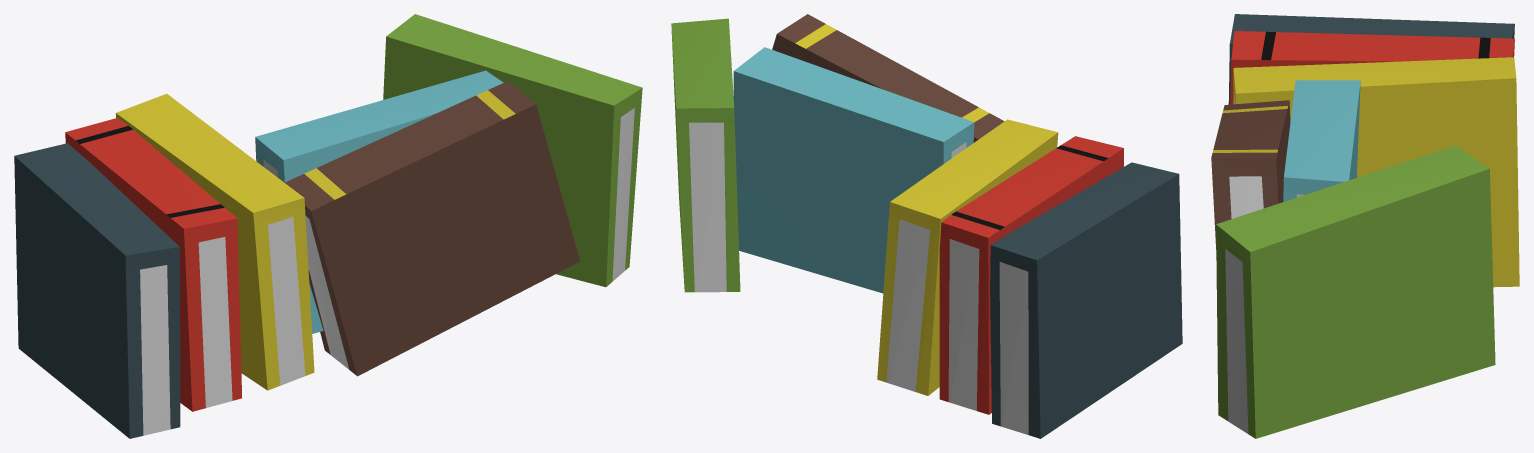
3 views of the same model, side by side, from view 1: azimuth 30°, elevation 25°; view 2: azimuth 150°, elevation 25°; view 3: azimuth 270°, elevation 25° (orthographic). The views are drawn at different scales.
Parts seen in each view (by area): view 1: node_MeshObject96883712-PolyPaper17; view 2: node_MeshObject96883712-PolyPaper17; view 3: node_MeshObject96883712-PolyPaper17.
Part boxes in pixels (x1,y1,x2,y2): node_MeshObject96883712-PolyPaper17: [14, 14, 642, 438]; node_MeshObject96883712-PolyPaper17: [671, 14, 1182, 438]; node_MeshObject96883712-PolyPaper17: [1211, 14, 1519, 438].
Size of the model in its own units: 0.1141 by 0.0525 by 0.054.
